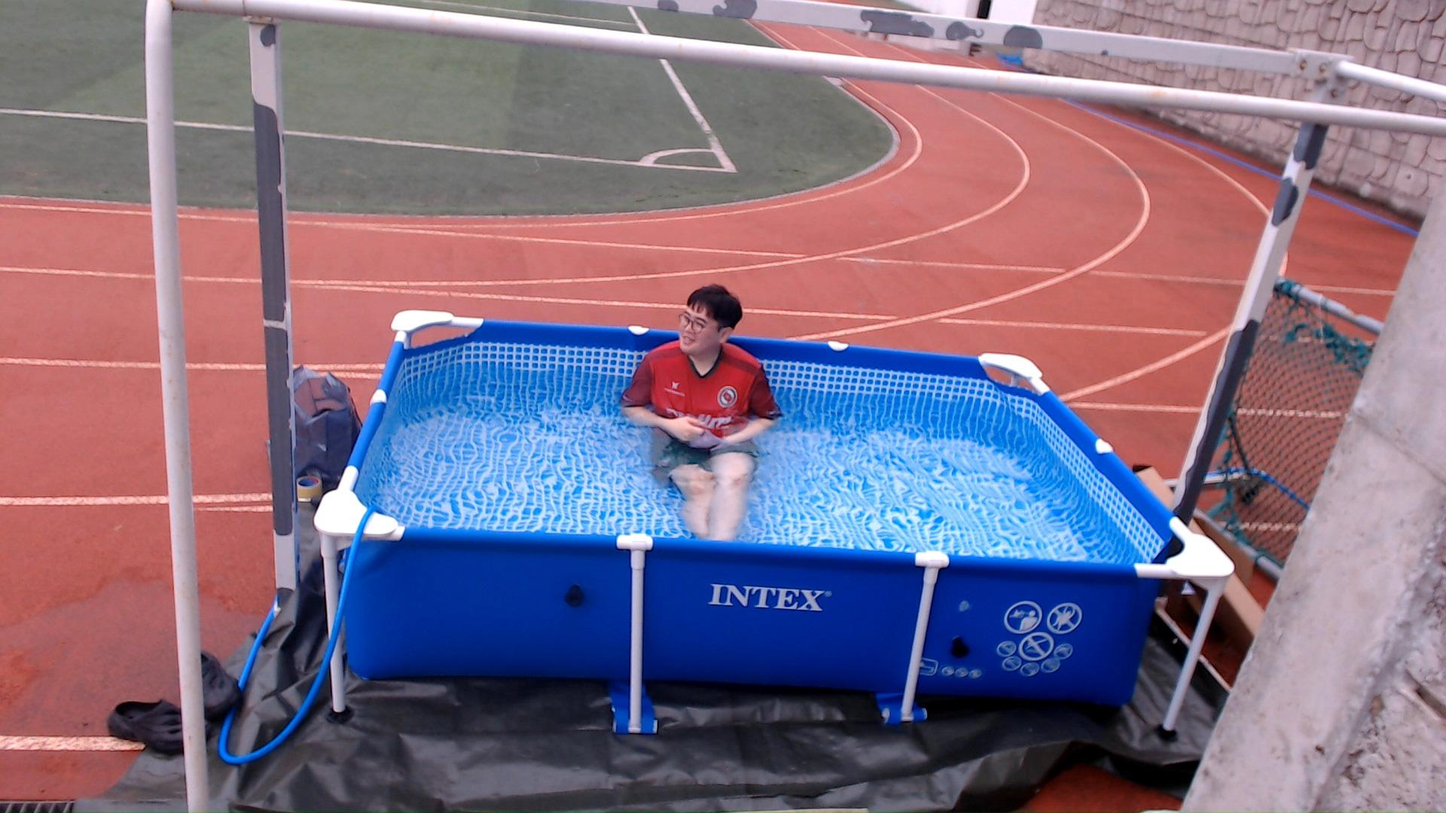Swimming: (562, 226, 815, 534)
